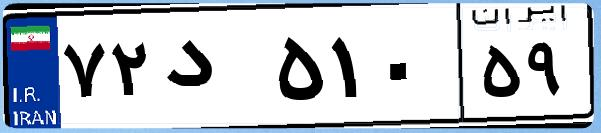0: (385, 28, 445, 110)
1: (330, 28, 385, 110)
2: (110, 28, 158, 98)
5: (270, 28, 330, 110), (475, 38, 525, 113)
7: (57, 26, 110, 100)
9: (525, 38, 570, 115)
د: (158, 20, 270, 120)
